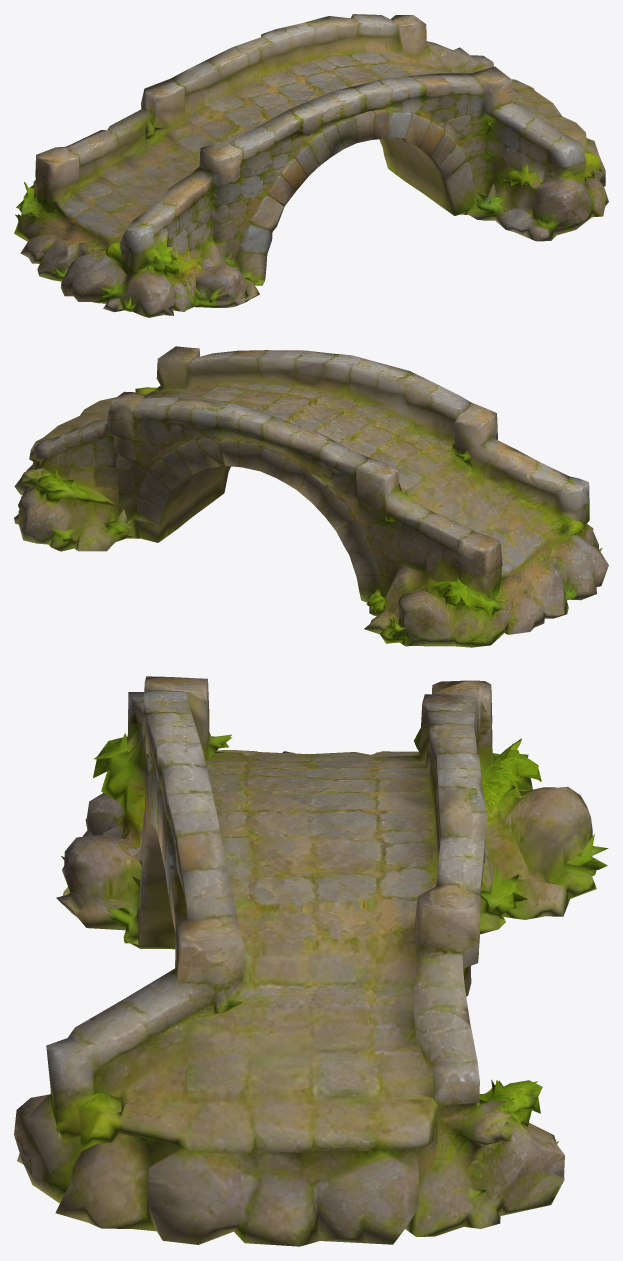
File: kopru-ham.glb
3 renders of one model, top to bottom at view 1: azimuth 30°, elevation 25°; view 2: azimuth 150°, elevation 25°; view 3: azimuth 270°, elevation 25°, orthographic. The views are drawn at different scales.
Visible parts, largest first — view 1: tripo_node_ee638103-6909-40ba-aa32-90821360ea5a; view 2: tripo_node_ee638103-6909-40ba-aa32-90821360ea5a; view 3: tripo_node_ee638103-6909-40ba-aa32-90821360ea5a.
Part boxes in pixels (left/top/right/bottom): tripo_node_ee638103-6909-40ba-aa32-90821360ea5a: left=14, top=14, right=608, bottom=317; tripo_node_ee638103-6909-40ba-aa32-90821360ea5a: left=14, top=346, right=608, bottom=647; tripo_node_ee638103-6909-40ba-aa32-90821360ea5a: left=14, top=676, right=608, bottom=1246.
Size of the model in its own units: 0.9807 by 0.2804 by 0.5392.
1 material, 1 textured.
